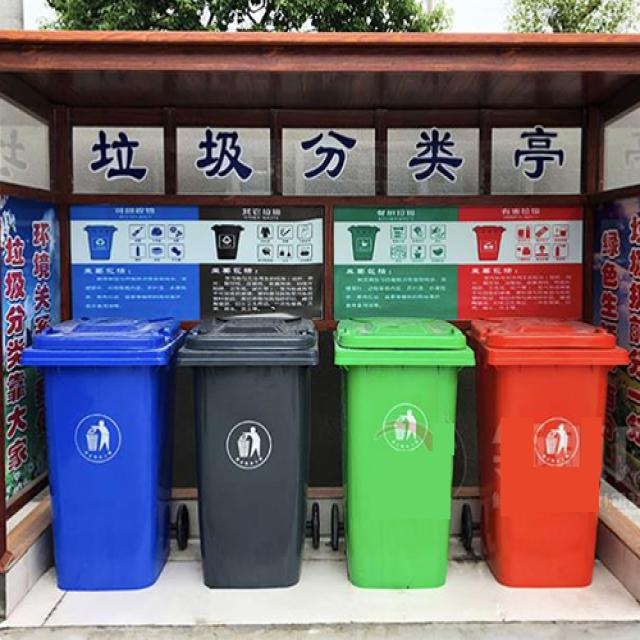garbage_bin: (18, 314, 186, 591), (466, 316, 631, 584), (174, 311, 318, 589), (334, 317, 475, 588)
